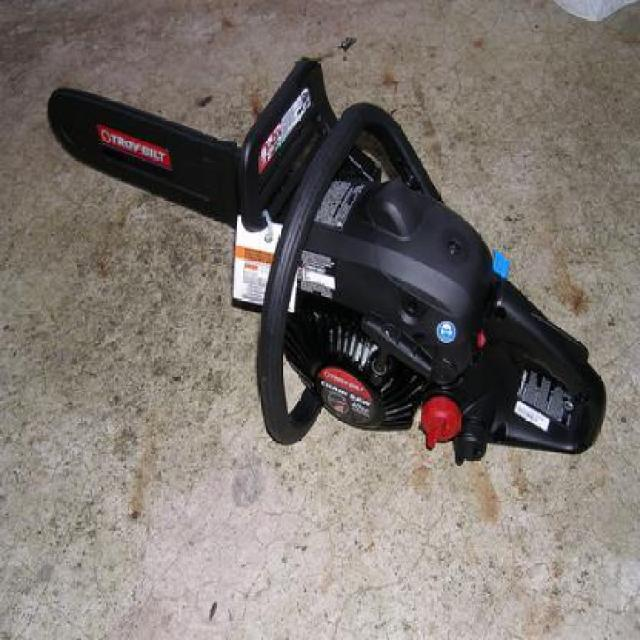Chainsaw: (42, 51, 610, 471)
